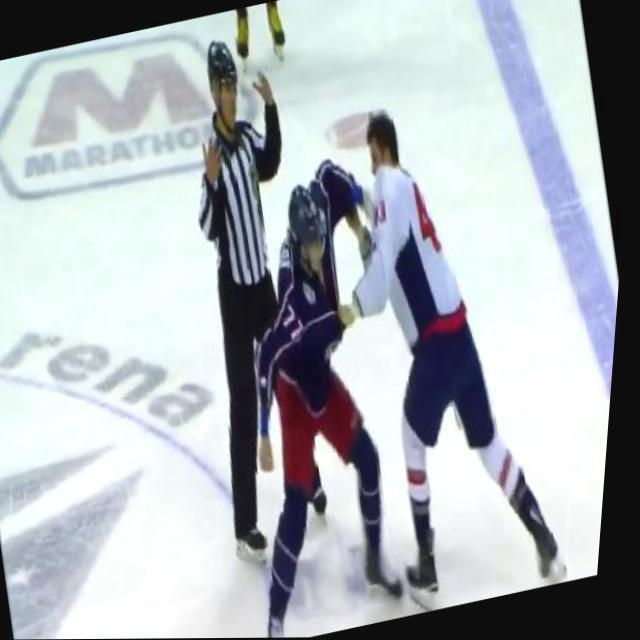fight: (192, 96, 554, 634)
